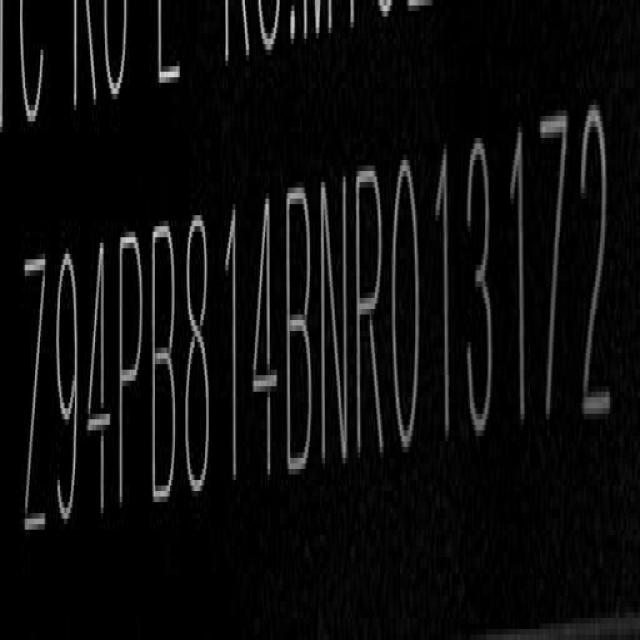0: (388, 157, 422, 462)
1: (502, 114, 532, 433), (430, 135, 456, 451), (218, 192, 244, 495)
2: (577, 100, 613, 429)
3: (464, 129, 494, 439)
4: (250, 178, 279, 480), (87, 235, 110, 513)
7: (541, 108, 568, 429)
8: (182, 192, 212, 493)
9: (52, 248, 80, 532)
B: (284, 176, 315, 478), (148, 213, 178, 515)
N: (318, 172, 354, 484)
P: (116, 227, 144, 515)
R: (352, 161, 388, 474)
Z: (22, 256, 48, 542)
